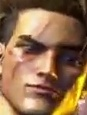kevin: (2, 7, 86, 111)
